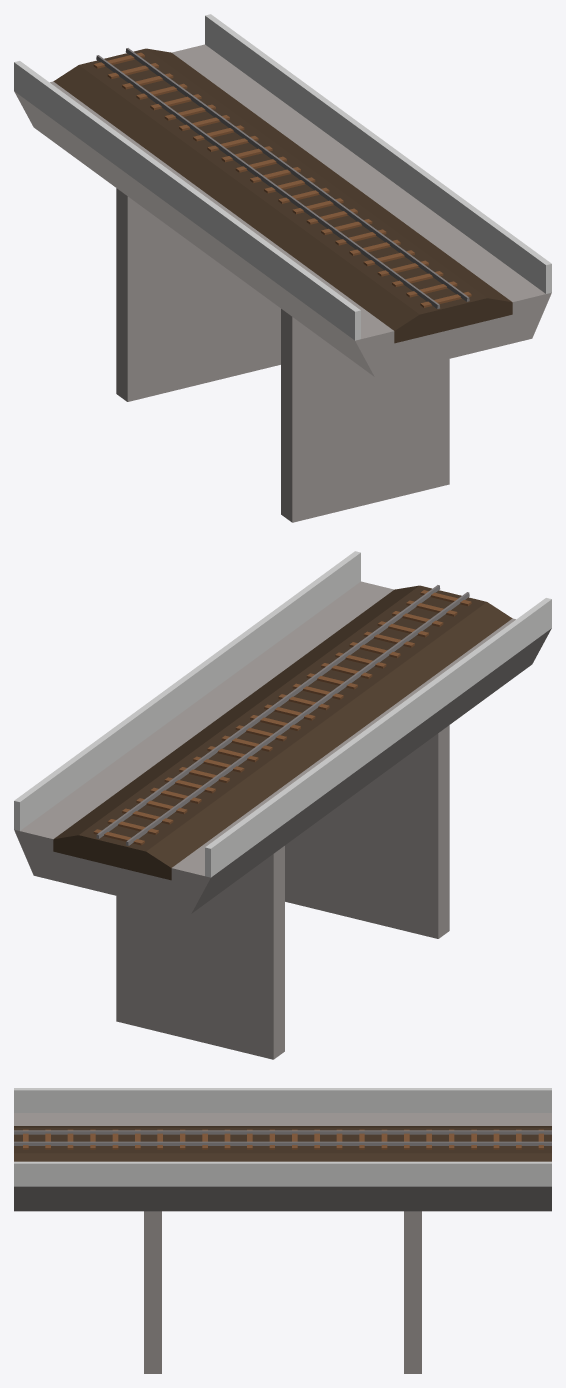
File: tiles_bridge-rail.fbx
3 views of the same model, one above another, from view 1: azimuth 30°, elevation 25°; view 2: azimuth 150°, elevation 25°; view 3: azimuth 270°, elevation 25° (orthographic). The views are drawn at different scales.
Visible parts, largest first — view 1: tiles_bridge_rail; view 2: tiles_bridge_rail; view 3: tiles_bridge_rail.
Boxes of the visible parts, x1=… form: tiles_bridge_rail: x1=14, y1=14, x2=551, y2=522; tiles_bridge_rail: x1=14, y1=551, x2=551, y2=1059; tiles_bridge_rail: x1=14, y1=1088, x2=551, y2=1373.
Size of the model in its own units: 66.67 by 89.33 by 200.
